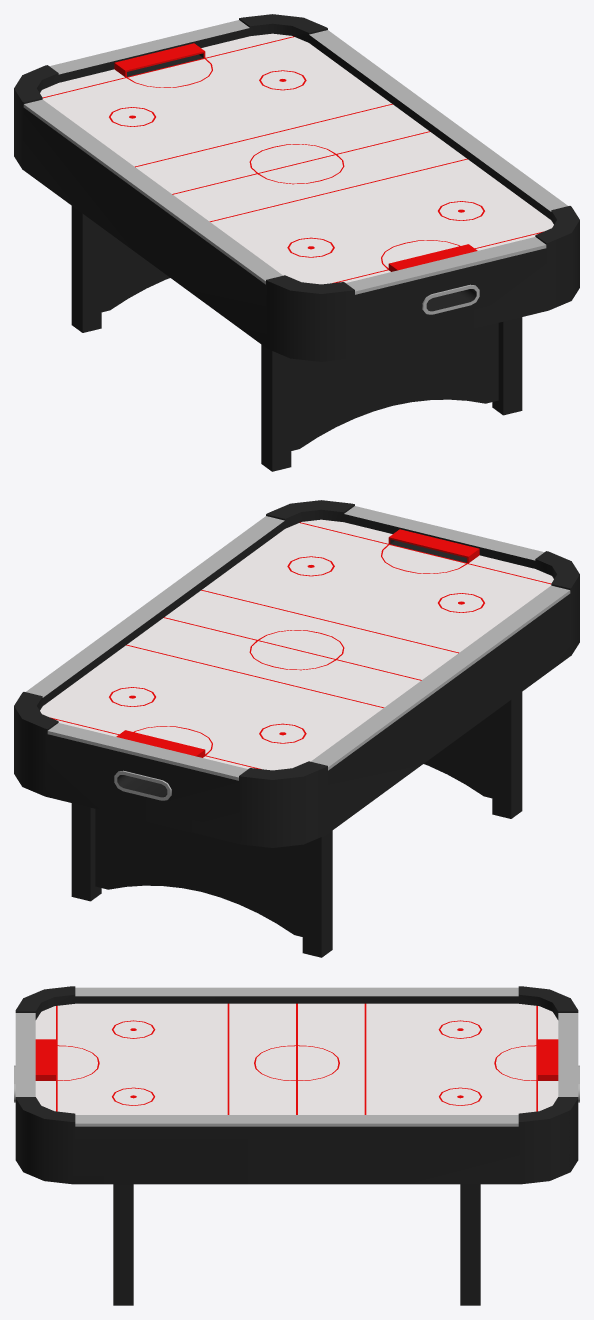
File: Table.obj
3 views of the same model, one above another, from view 1: azimuth 30°, elevation 25°; view 2: azimuth 150°, elevation 25°; view 3: azimuth 270°, elevation 25° (orthographic). The views are drawn at different scales.
Bounding box in the file's own units: 26.44 × 17.76 × 46.54.
